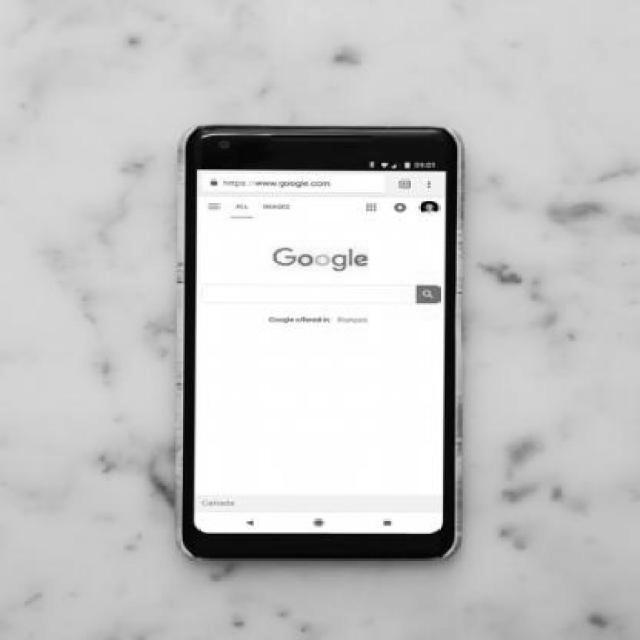fake: (164, 120, 470, 586)
